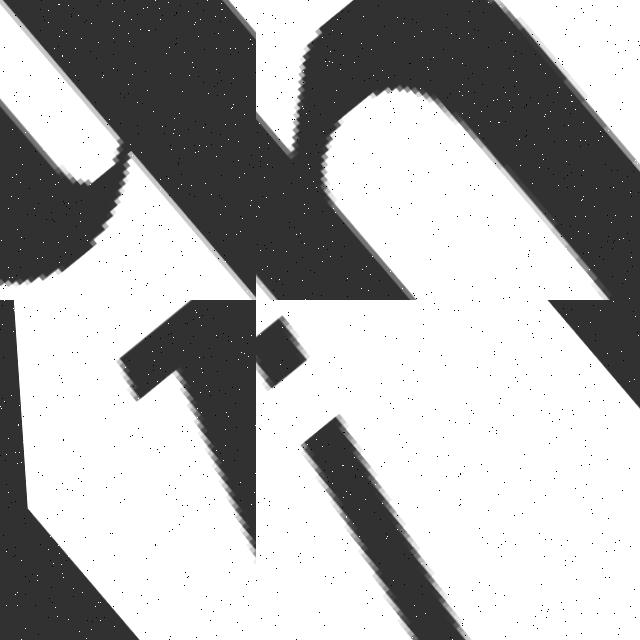J: (256, 300, 640, 640)
N: (256, 0, 640, 300), (0, 300, 256, 640)
Q: (0, 0, 256, 300)
